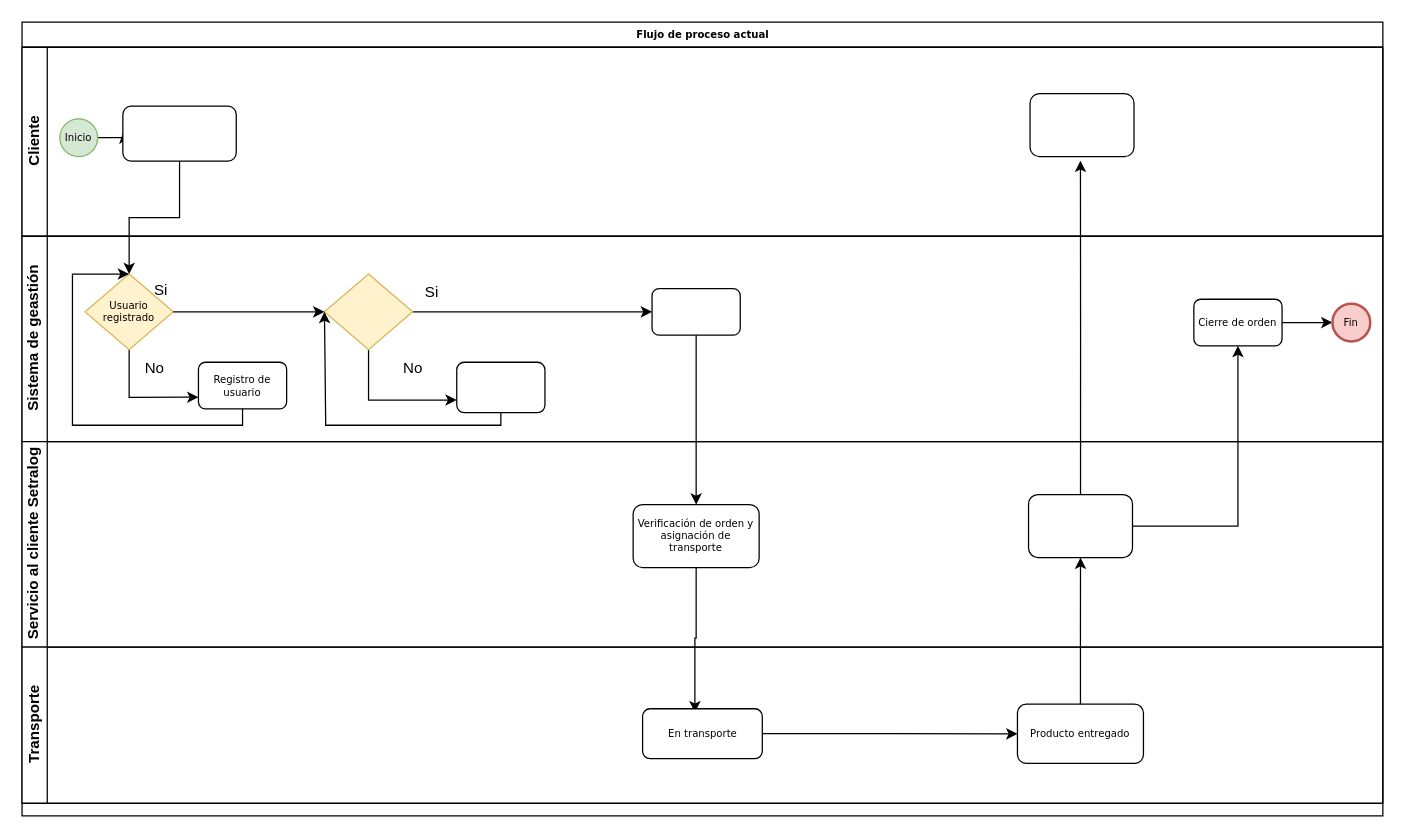
Image size: 1405x838. Some labels were removed from this diagram. Each missing label, with the centre of its shape:
Creacion de orden: the point at 695,311
Empresa registrada: the point at 368,311
Ingreso a portal web: the point at 179,133
Registro de empresa: the point at 500,387
Se avisa a servicio al cliente: the point at 1079,525
Se avisa de entrega a cliente: the point at 1081,124
